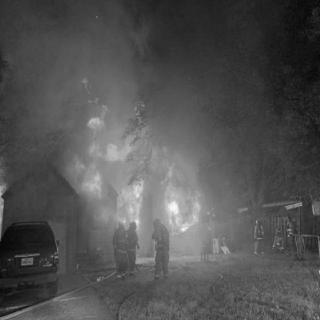Fire: (84, 101, 148, 161), (158, 160, 204, 234), (112, 165, 148, 228)
